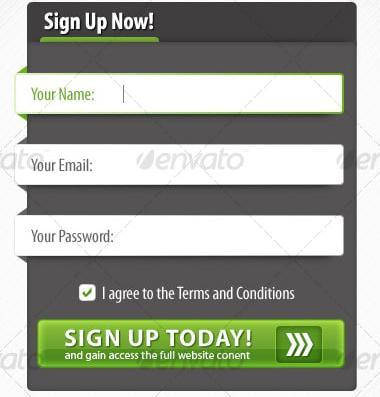button: (38, 321, 346, 368)
checkbox: (79, 284, 98, 303)
input: (14, 215, 346, 258), (15, 144, 347, 186), (14, 73, 345, 115)
label: (103, 286, 297, 305), (43, 11, 156, 35)
